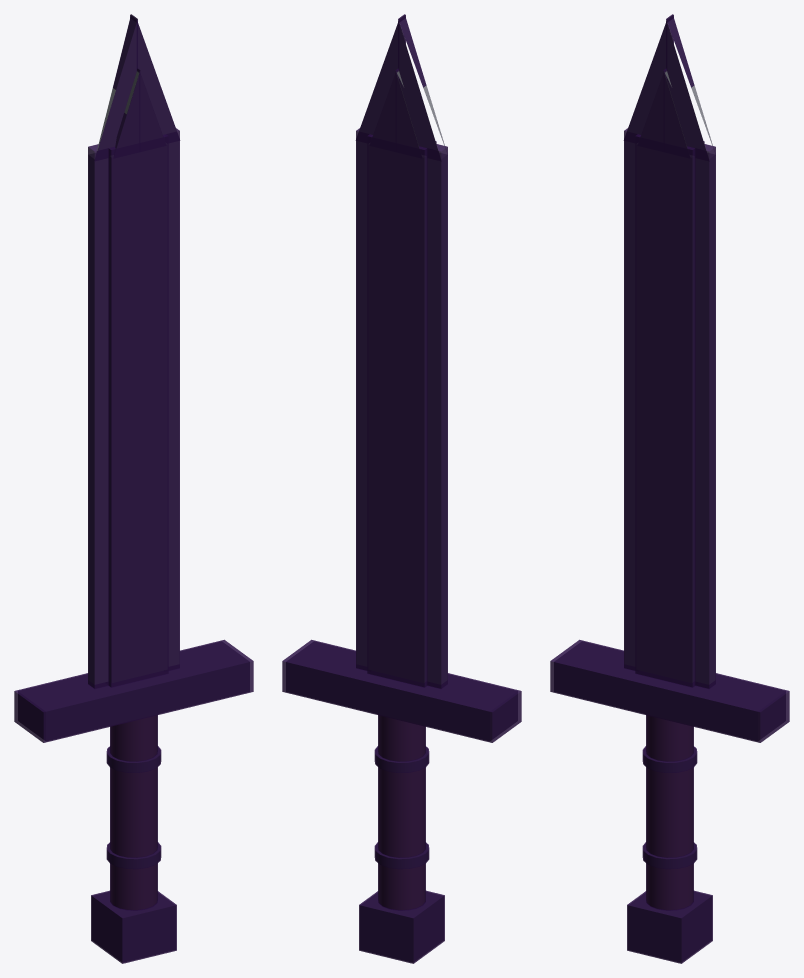
The picture shows the model from 3 angles, left to right: view 1: azimuth 30°, elevation 25°; view 2: azimuth 150°, elevation 25°; view 3: azimuth 330°, elevation 25°; orthographic projection.
Visible parts, largest first — view 1: weapon-voidglass; view 2: weapon-voidglass; view 3: weapon-voidglass.
Boxes of the visible parts, <box> form: weapon-voidglass: <box>14,14,253,963</box>; weapon-voidglass: <box>282,14,521,963</box>; weapon-voidglass: <box>550,14,789,963</box>.
Size of the model in its own units: 0.2024 by 0.8551 by 0.0526.
